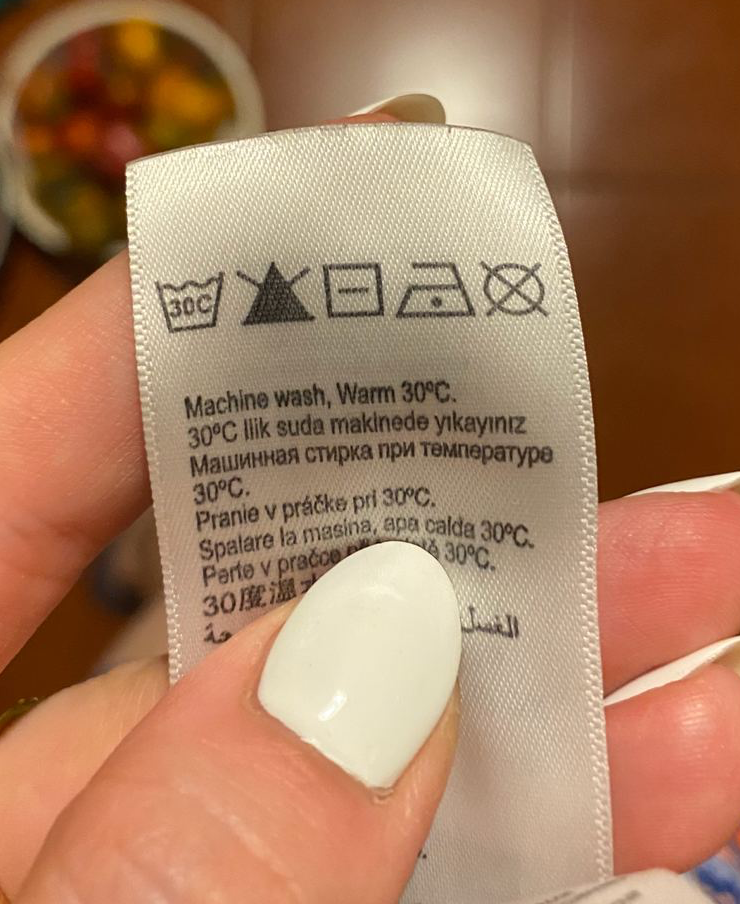do_not_bleach: (231, 256, 318, 331)
do_not_dry_clean: (479, 257, 552, 324)
dry_flat: (322, 256, 388, 322)
ironing_at_low_temp: (393, 258, 477, 319)
wash_at_or_below_30: (154, 267, 226, 332)
